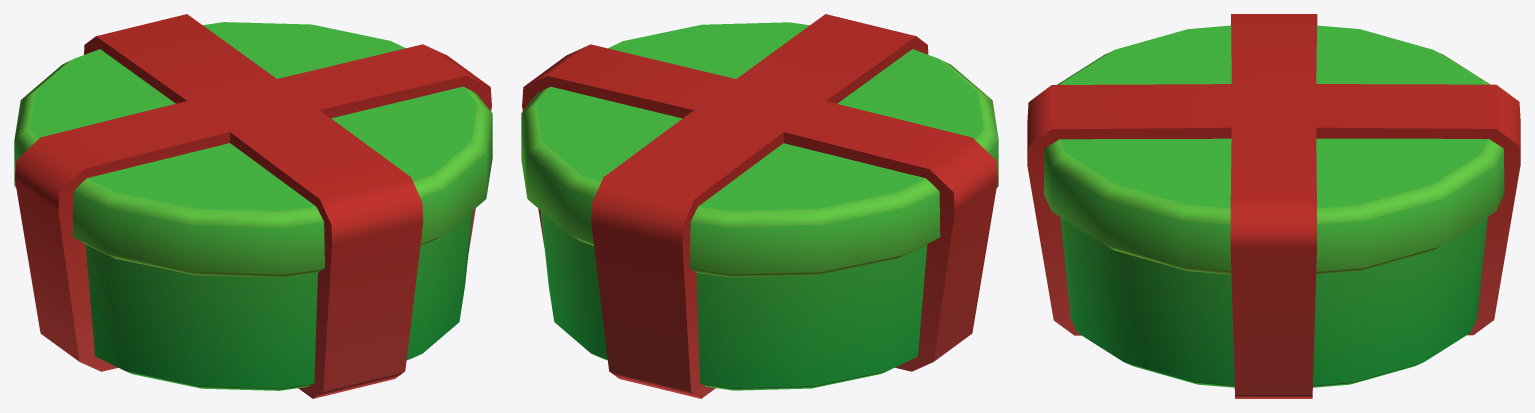
The model's file is giftbox_028.fbx.
The picture shows the model from 3 angles, left to right: view 1: azimuth 30°, elevation 25°; view 2: azimuth 150°, elevation 25°; view 3: azimuth 270°, elevation 25°; orthographic projection.
Parts seen in each view (by area): view 1: giftbox_028; view 2: giftbox_028; view 3: giftbox_028.
Part boxes in pixels (bbox=[...]): giftbox_028: bbox=[14, 14, 492, 398]; giftbox_028: bbox=[521, 14, 998, 398]; giftbox_028: bbox=[1027, 14, 1520, 398].
Bounding box in the file's own units: 235 × 232 × 109.
